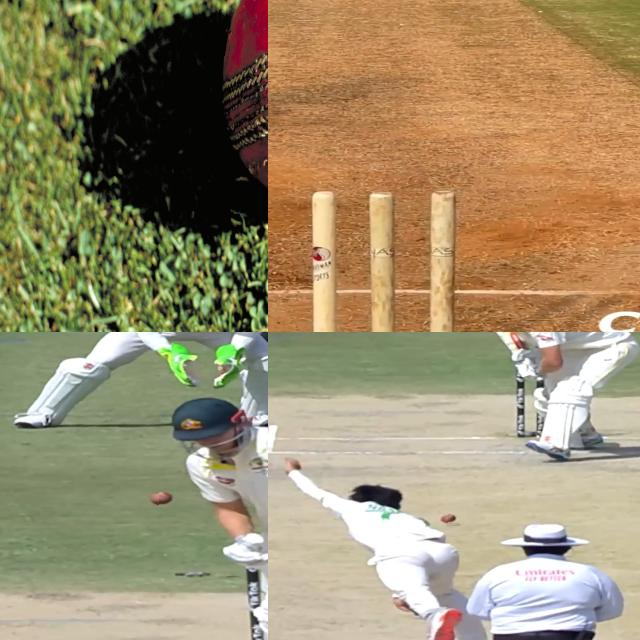Cricket ball: (219, 0, 268, 214), (150, 492, 173, 507), (439, 513, 459, 525)
Stumps: (307, 187, 461, 332)
